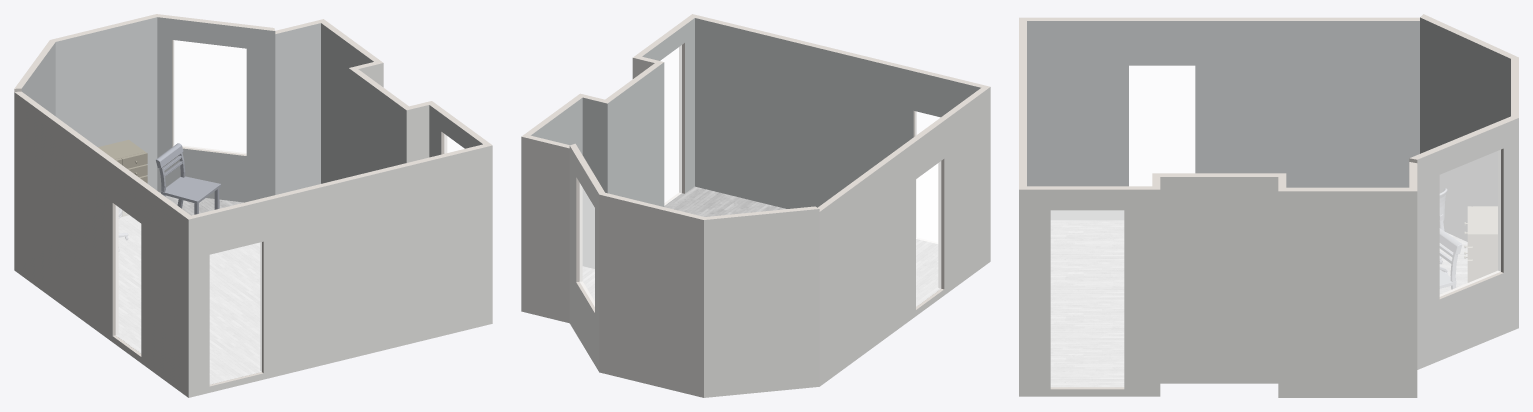
Rendered from Elks_Lodge_Decorations_Room.glb.
3 views of the same model, side by side, from view 1: azimuth 30°, elevation 25°; view 2: azimuth 150°, elevation 25°; view 3: azimuth 270°, elevation 25° (orthographic). The views are drawn at different scales.
Parts seen in each view (by area): view 1: wall_3, wall_8, wall_19, wall_11, floor_Decoration_Room, window_0, window_2, wall_15, door_0, door_3, wall_25, wall_21 (+12 smaller); view 2: wall_17, wall_8, wall_6, wall_4, wall_2, wall_25, wall_0, floor_Decoration_Room, door_1, door_4, wall_29, door_2 (+10 smaller); view 3: wall_27, wall_5, wall_7, wall_1, wall_0, door_2, door_5, floor_Decoration_Room, wall_23, window_0, window_2, door_1 (+11 smaller).
Part boxes in pixels (left/top/right/bottom): wall_3: left=188, top=145, right=492, bottom=397; wall_8: left=14, top=92, right=188, bottom=397; wall_19: left=55, top=17, right=157, bottom=190; wall_11: left=157, top=17, right=275, bottom=202; floor_Decoration_Room: left=116, top=192, right=260, bottom=384; window_0: left=173, top=40, right=246, bottom=154; window_2: left=173, top=40, right=246, bottom=154; wall_15: left=275, top=23, right=320, bottom=194; door_0: left=210, top=242, right=261, bottom=384; door_3: left=210, top=242, right=261, bottom=384; wall_25: left=348, top=68, right=406, bottom=176; wall_21: left=321, top=23, right=373, bottom=183; wall_17: left=695, top=18, right=980, bottom=208; wall_8: left=819, top=87, right=990, bottom=386; wall_6: left=704, top=209, right=819, bottom=397; wall_4: left=599, top=194, right=703, bottom=397; wall_2: left=521, top=136, right=569, bottom=323; wall_25: left=607, top=62, right=664, bottom=206; wall_0: left=569, top=146, right=599, bottom=371; floor_Decoration_Room: left=583, top=186, right=940, bottom=306; door_1: left=916, top=161, right=940, bottom=306; door_4: left=916, top=162, right=940, bottom=306; wall_29: left=582, top=97, right=607, bottom=268; door_2: left=661, top=45, right=681, bottom=205; wall_27: left=1027, top=21, right=1419, bottom=219; wall_5: left=1278, top=191, right=1417, bottom=397; wall_7: left=1160, top=177, right=1278, bottom=383; wall_1: left=1019, top=189, right=1160, bottom=396; wall_0: left=1417, top=118, right=1518, bottom=369; door_2: left=1051, top=210, right=1123, bottom=386; door_5: left=1051, top=210, right=1123, bottom=386; floor_Decoration_Room: left=1051, top=220, right=1467, bottom=386; wall_23: left=1420, top=17, right=1510, bottom=241; window_0: left=1440, top=150, right=1500, bottom=296; window_2: left=1440, top=150, right=1500, bottom=296; door_1: left=1129, top=66, right=1194, bottom=185.
Bounding box in the file's own units: 5.1 × 2.88 × 6.2.
Materials: 29 (1 with a texture image).
